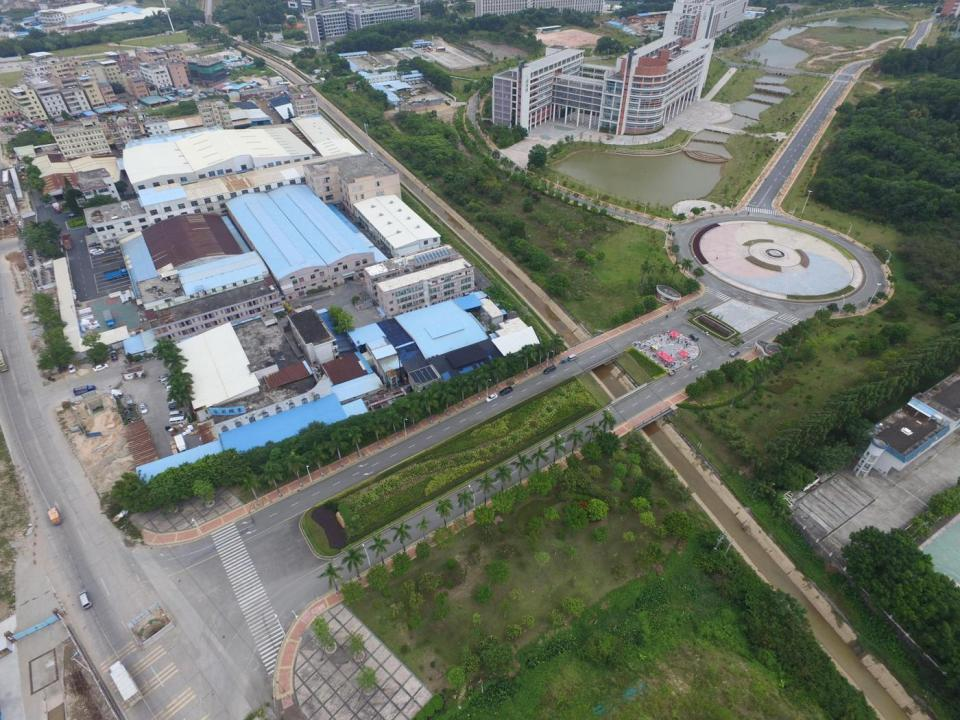bus: (0, 348, 10, 373), (436, 47, 446, 52), (428, 45, 434, 52)
car: (78, 590, 92, 610), (168, 401, 185, 411), (498, 386, 514, 396), (543, 364, 556, 375), (157, 373, 174, 381), (486, 392, 498, 403), (93, 364, 109, 372), (160, 376, 175, 384), (139, 402, 148, 415), (67, 363, 76, 374), (168, 397, 182, 404), (688, 334, 700, 342), (164, 380, 177, 387), (124, 394, 133, 404), (165, 385, 177, 392), (110, 352, 118, 362), (89, 248, 102, 254), (67, 213, 81, 218), (730, 350, 740, 357), (88, 242, 101, 247), (92, 251, 104, 256)
truck: (106, 660, 144, 708), (46, 505, 62, 526), (173, 433, 188, 454), (103, 268, 127, 281), (102, 309, 116, 329), (73, 384, 96, 396), (61, 232, 73, 250), (52, 202, 62, 213), (30, 128, 45, 135), (403, 96, 411, 99)
van: (170, 410, 186, 418), (170, 417, 188, 424), (568, 354, 578, 361)
